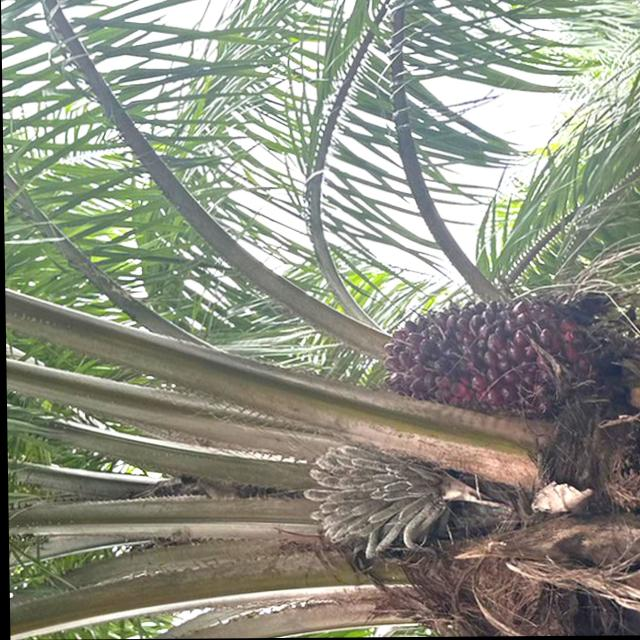ripe: (361, 281, 603, 429)
